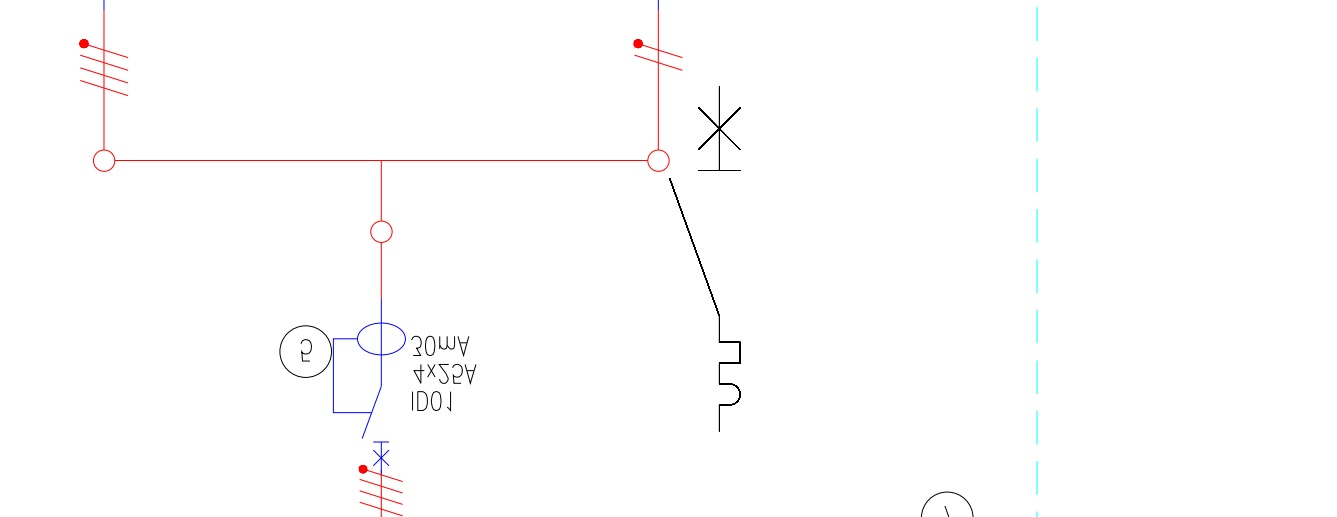interruptor_termomagnetico: (661, 78, 749, 440)
